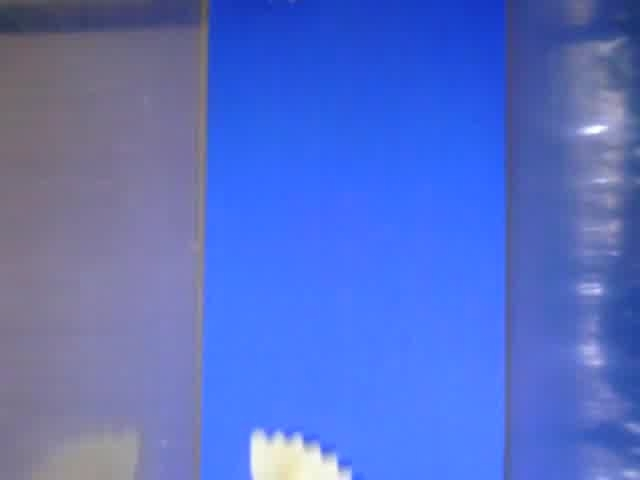farfalle: (248, 428, 355, 480)
